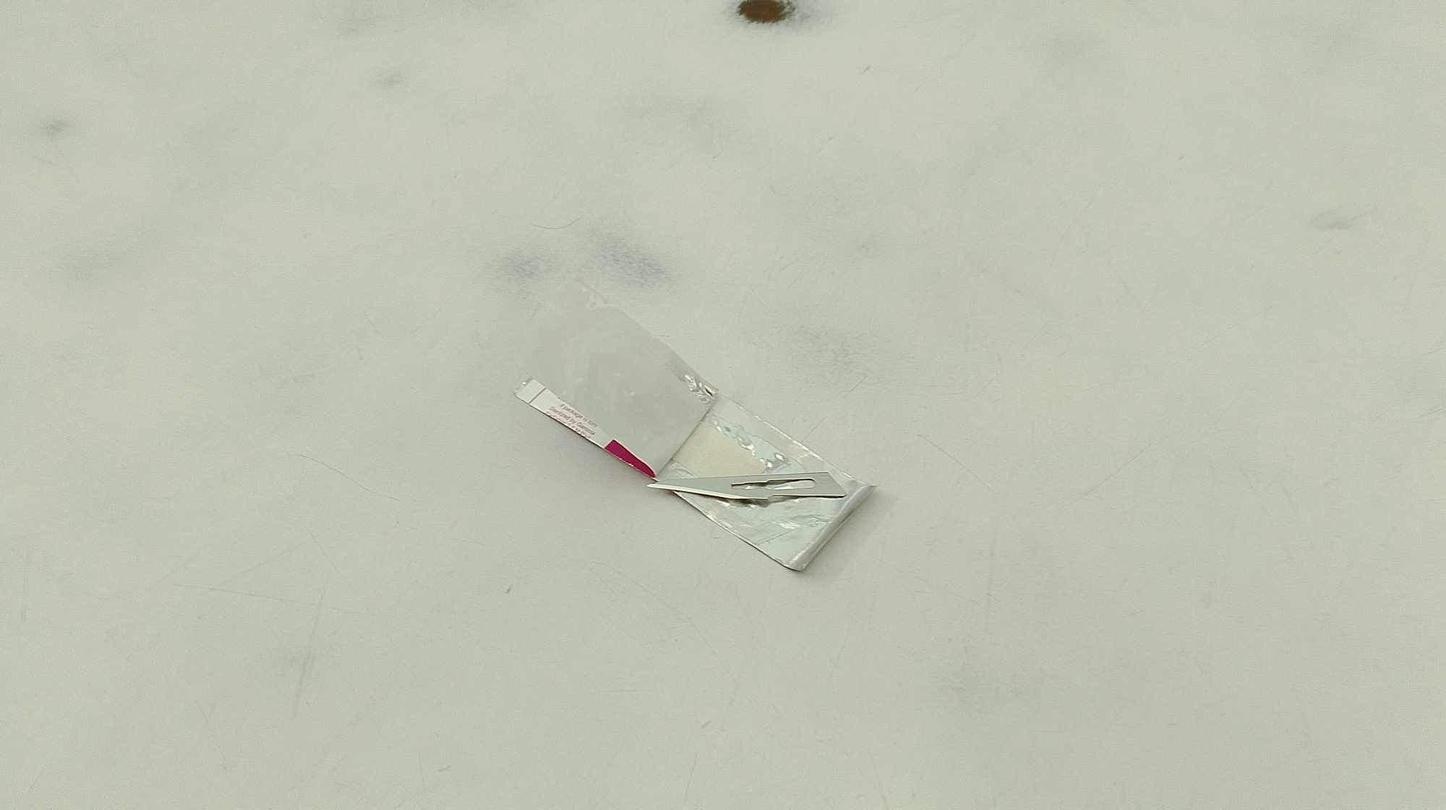General: (6, 4, 1438, 804), (509, 280, 876, 576), (647, 396, 874, 575)
Sharps: (512, 375, 847, 505)
